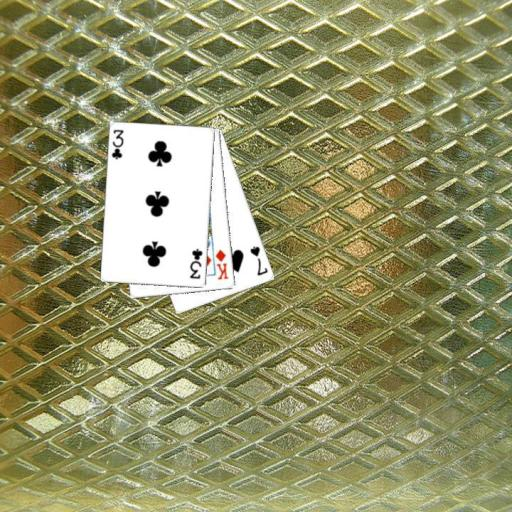3C: (187, 246, 204, 280), (109, 127, 125, 162)
7S: (247, 244, 270, 278)
KD: (213, 246, 230, 282)
